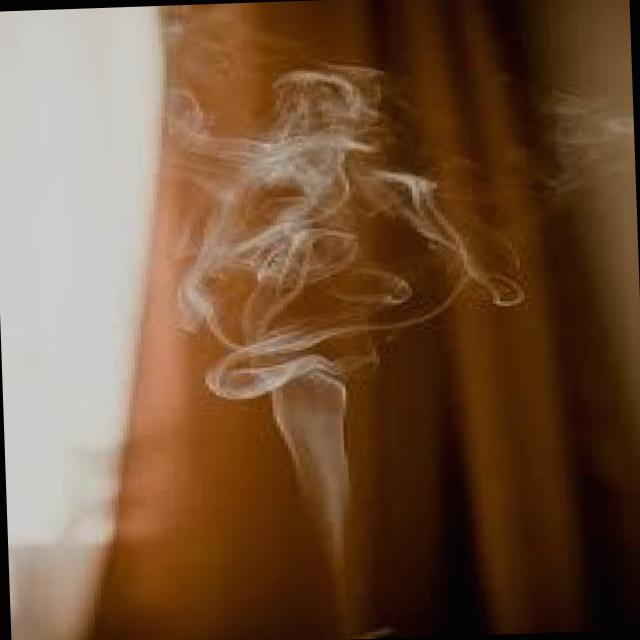smoke: (158, 34, 448, 423)
